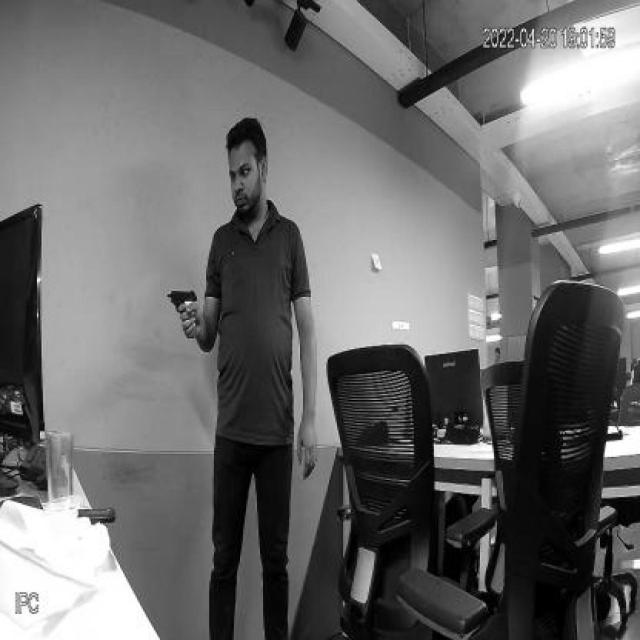weapon: (165, 286, 200, 325)
